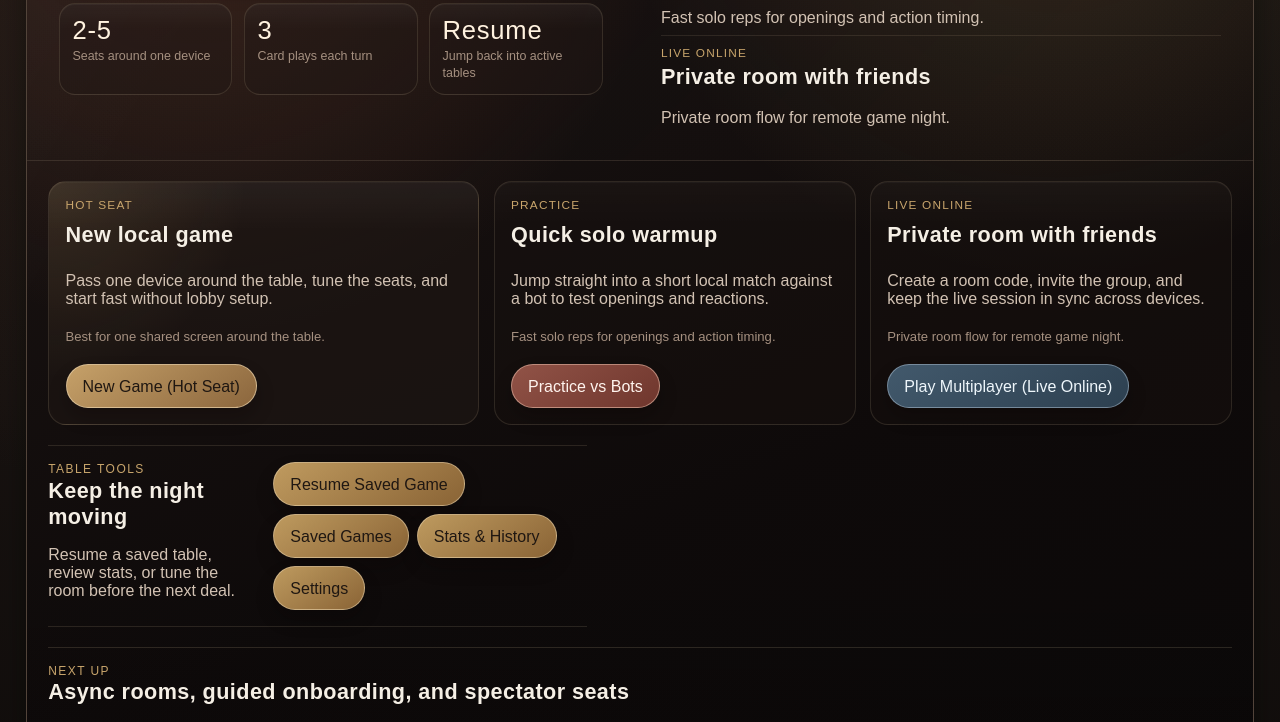
Test: App › renders property-flight choreography when playing a property card from hand
(page scrolled)
Step 1. Click the button "New Game (Hot Seat)" → (161, 386), box [66,364,257,408]
(page scrolled)
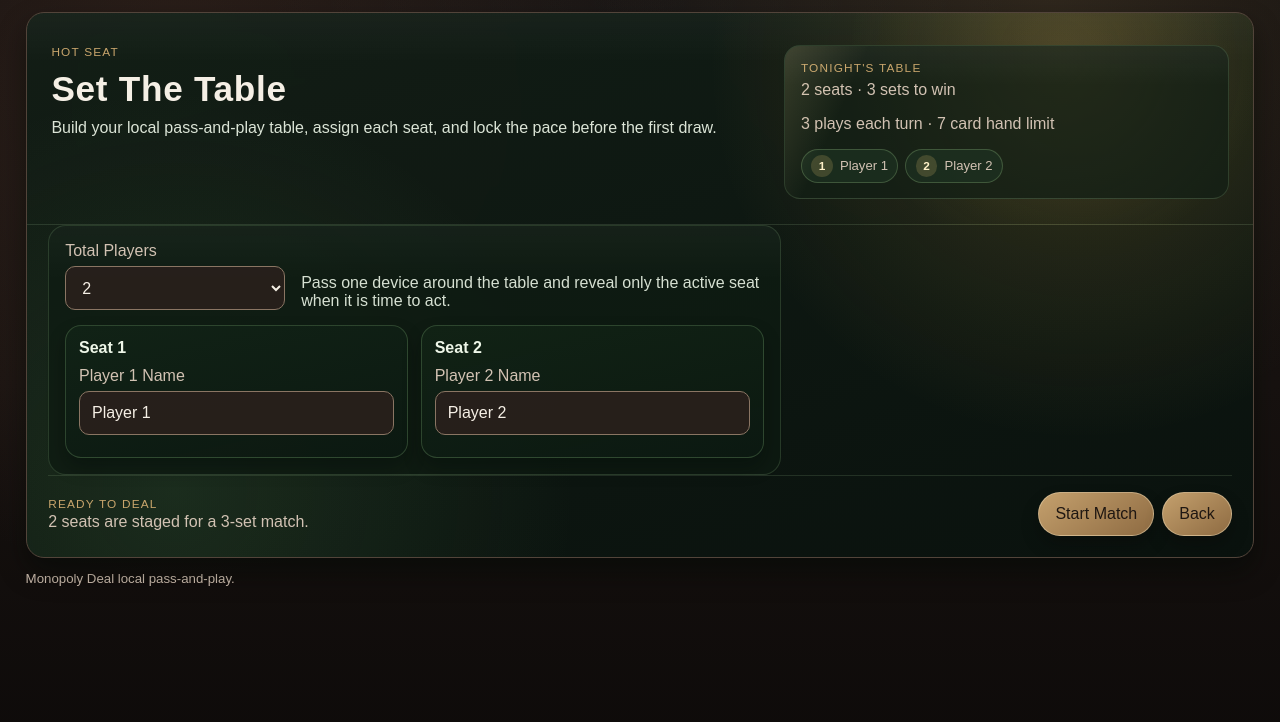
Step 2. Click the button "Start Match" → (1096, 514), box [1038,492,1154,536]
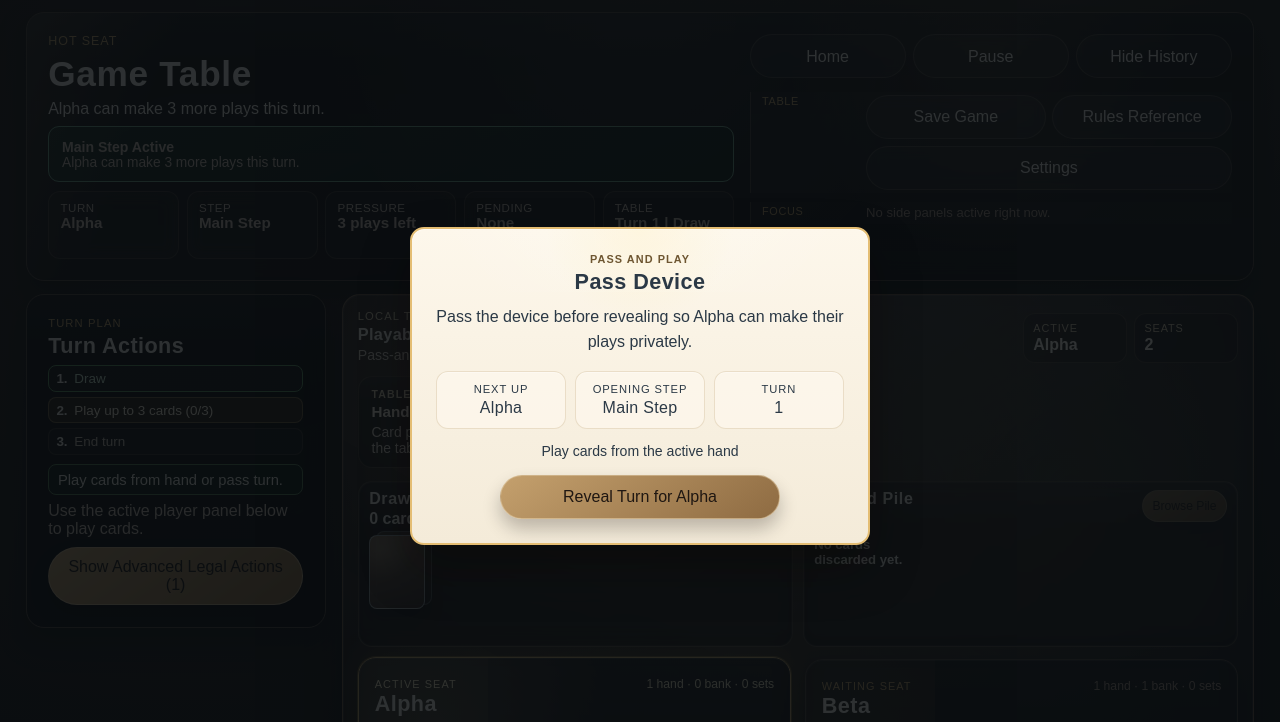
Step 3. Click the button "Reveal Turn for Alpha" → (640, 497), box [500,475,780,519]
(page scrolled)
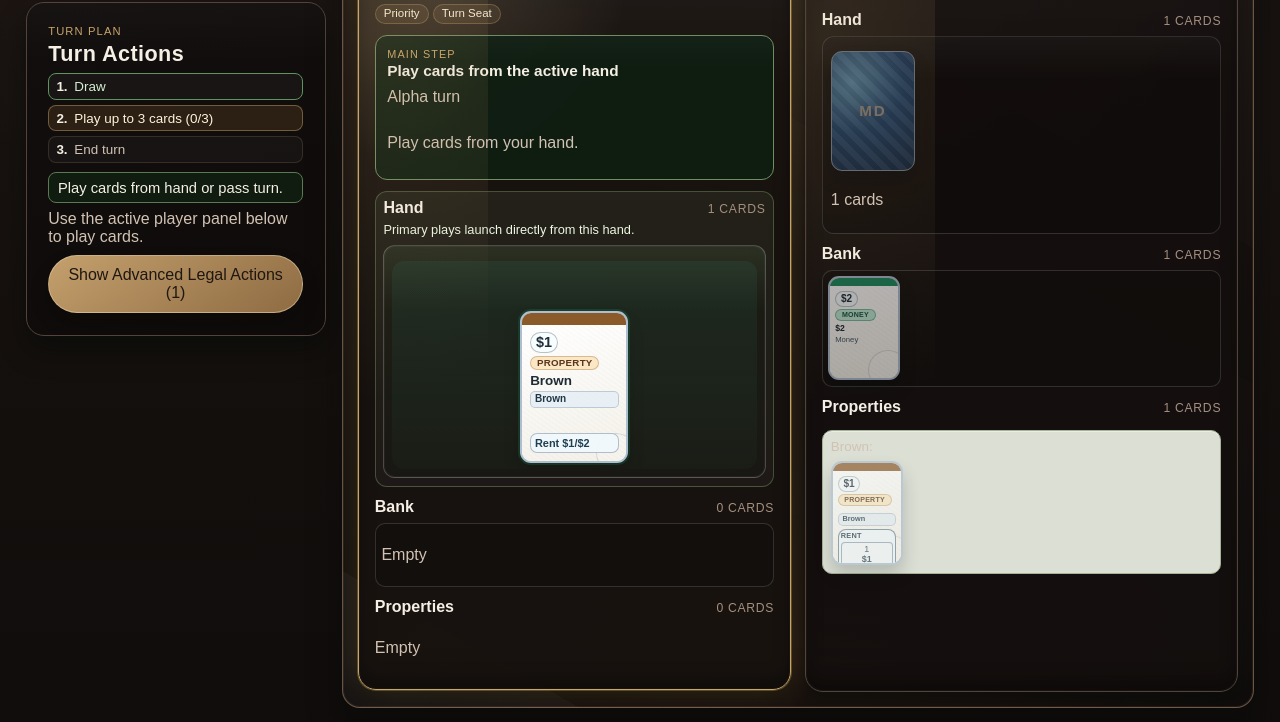
Step 4. Click the button with aria-label "brown card" → (574, 387), box [520,311,628,463]
(page scrolled)
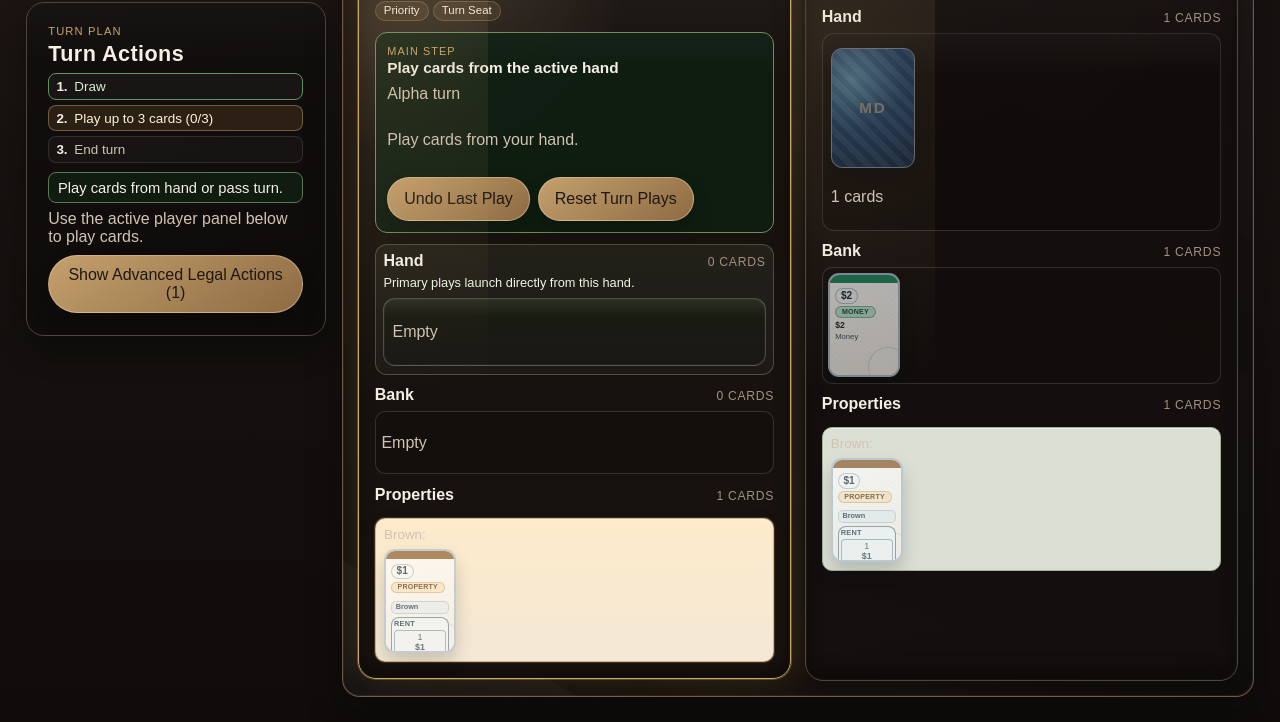
Result: the element with class "transition-tone-property" is shown at [375,518,774,662]
